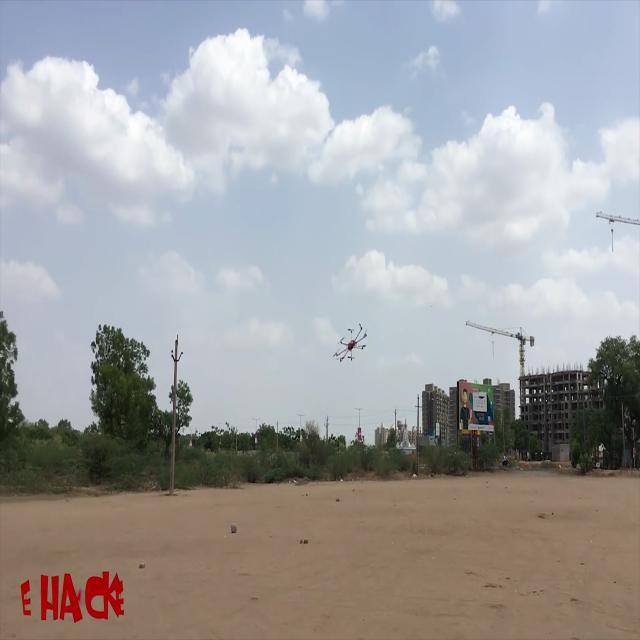drone: (328, 314, 375, 368)
